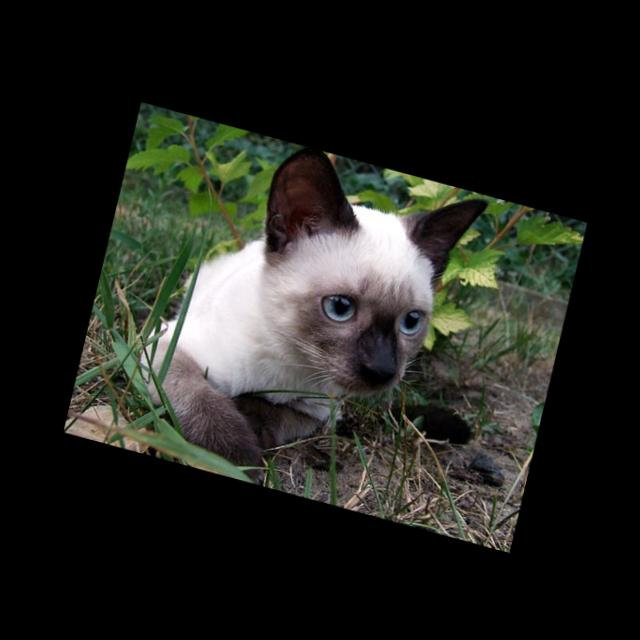animals: (240, 141, 489, 401)
